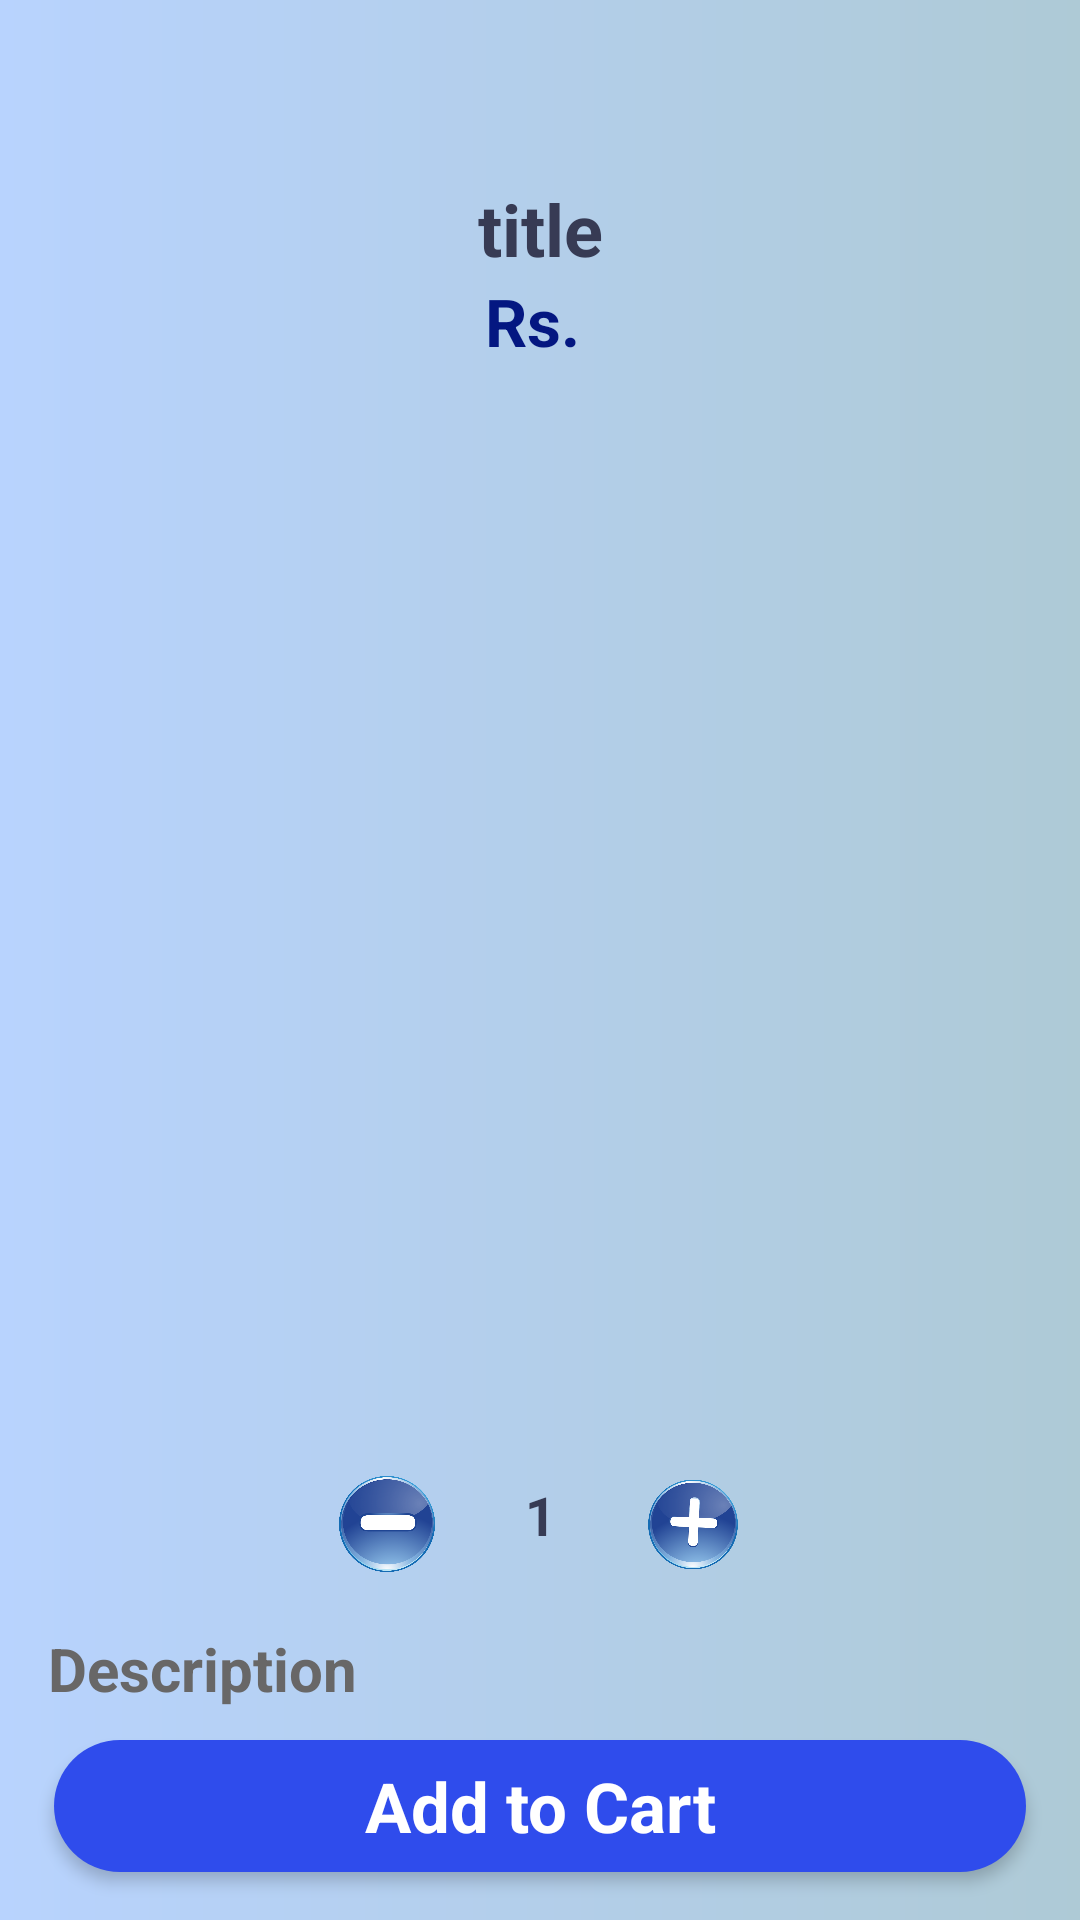

Locate icon controls on the screen. Image size 1080 x 1920, boxes as [x1=x1, y1=y1, x2=x2, y2=y2].
minus: [x1=339, y1=1476, x2=435, y2=1572]
plus: [x1=648, y1=1480, x2=738, y2=1569]
